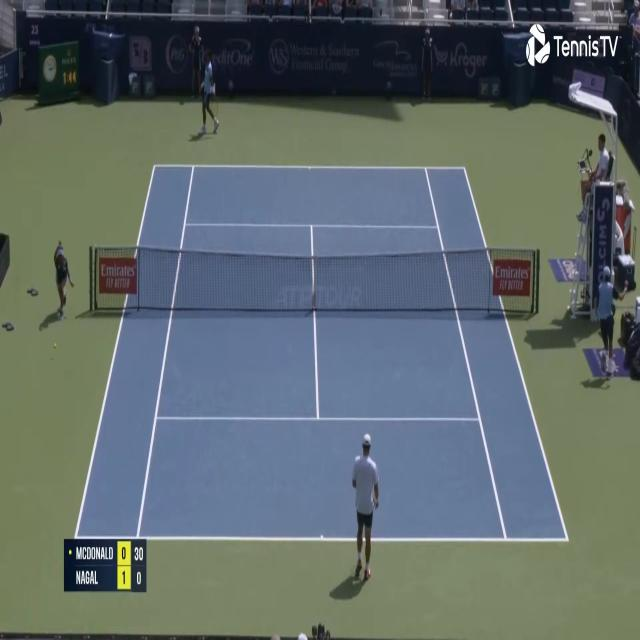tennis-player: (348, 430, 382, 587), (195, 46, 221, 138)
